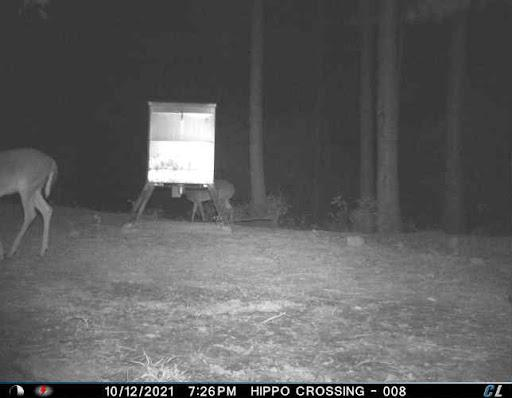Deer: (1, 137, 65, 273), (171, 175, 239, 223)
